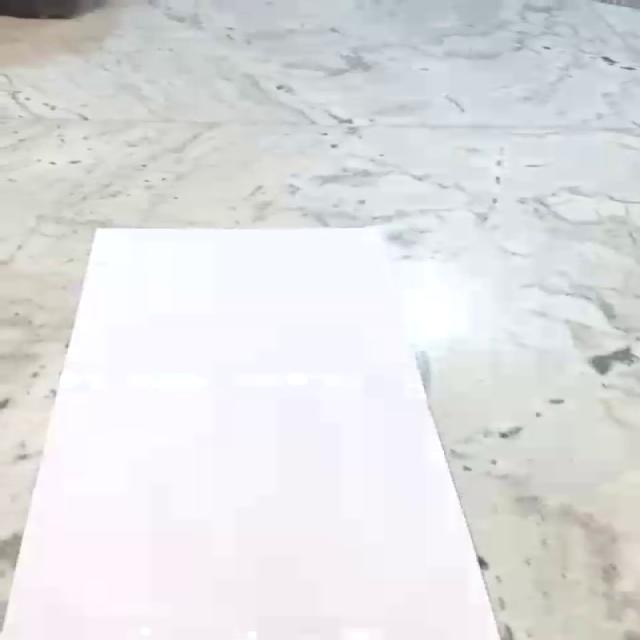road: (0, 228, 507, 640)
